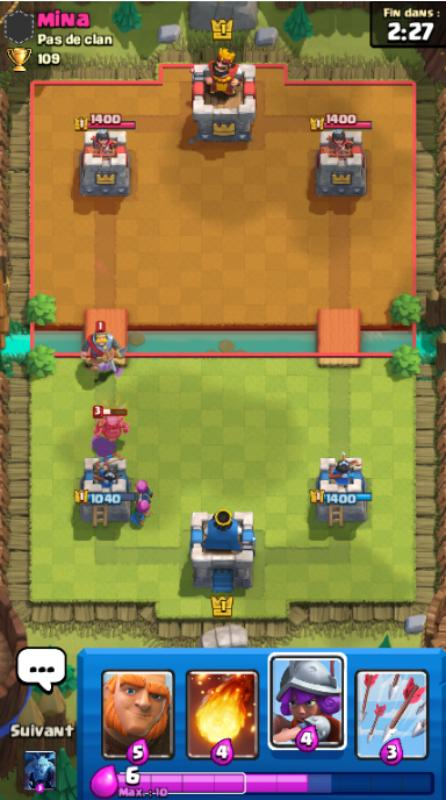archere: (136, 466, 156, 506), (134, 494, 152, 526)
chevalier: (80, 318, 128, 374)
mini_PEKKA: (86, 402, 138, 450)
